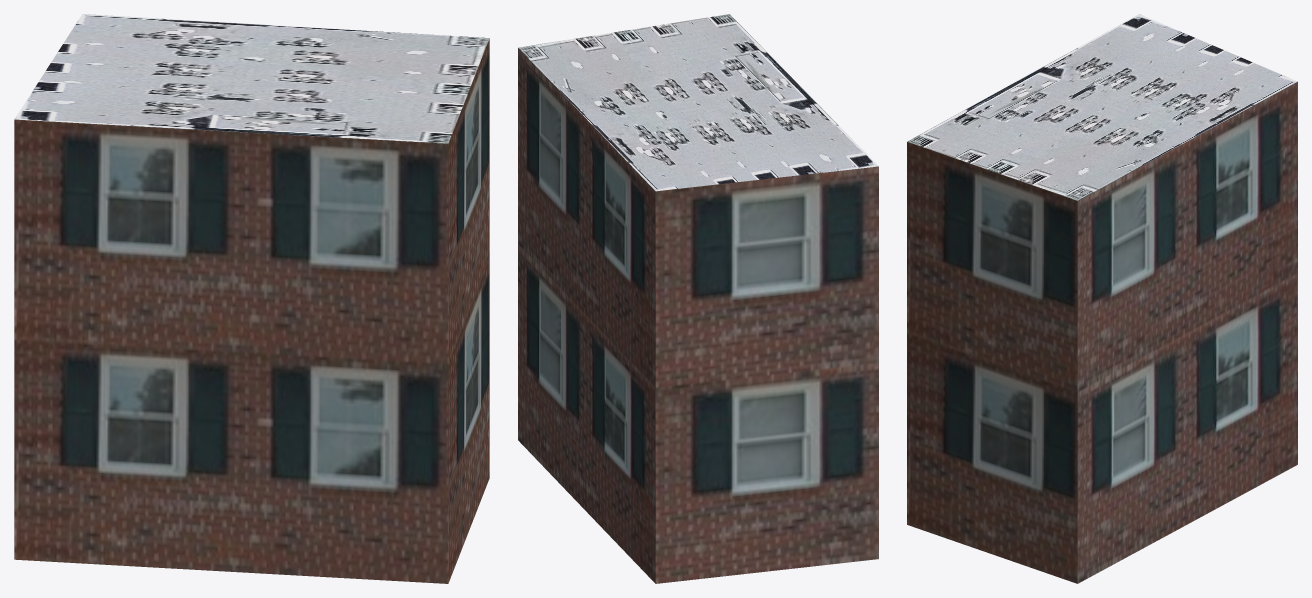
The model's file is ResTex__2265.fbx.
3 views of the same model, side by side, from view 1: azimuth 30°, elevation 25°; view 2: azimuth 150°, elevation 25°; view 3: azimuth 270°, elevation 25° (orthographic). The views are drawn at different scales.
Parts seen in each view (by area): view 1: CityEngineMaterial_14_m, CityEngineMaterial_m; view 2: CityEngineMaterial_14_m, CityEngineMaterial_m; view 3: CityEngineMaterial_14_m, CityEngineMaterial_m.
Part boxes in pixels (x1,y1,x2,y2): CityEngineMaterial_14_m: [14, 38, 489, 583]; CityEngineMaterial_m: [14, 14, 489, 143]; CityEngineMaterial_14_m: [518, 48, 878, 583]; CityEngineMaterial_m: [518, 14, 878, 191]; CityEngineMaterial_14_m: [907, 81, 1297, 583]; CityEngineMaterial_m: [907, 14, 1297, 200].
Bounding box in the file's own units: 6.28 × 6 × 5.55.
Materials: 2 (2 with a texture image).
